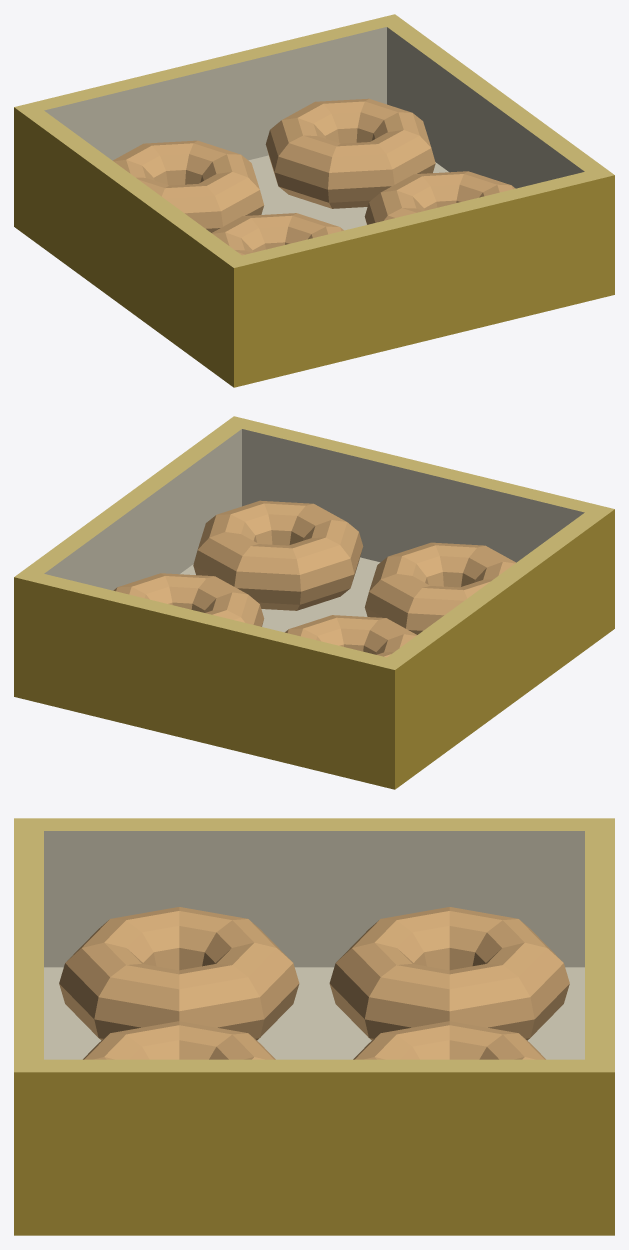
File: Package_Donut.fbx
3 renders of one model, top to bottom at view 1: azimuth 30°, elevation 25°; view 2: azimuth 150°, elevation 25°; view 3: azimuth 270°, elevation 25°, orthographic. The views are drawn at different scales.
Visible parts, largest first — view 1: Package_Donut; view 2: Package_Donut; view 3: Package_Donut.
Boxes of the visible parts, bbox=[...] form: Package_Donut: bbox=[14, 14, 614, 387]; Package_Donut: bbox=[14, 416, 614, 789]; Package_Donut: bbox=[14, 818, 614, 1235].
Bounding box in the file's own units: 1 × 0.3001 × 1.
Materials: 1 (1 with a texture image).
